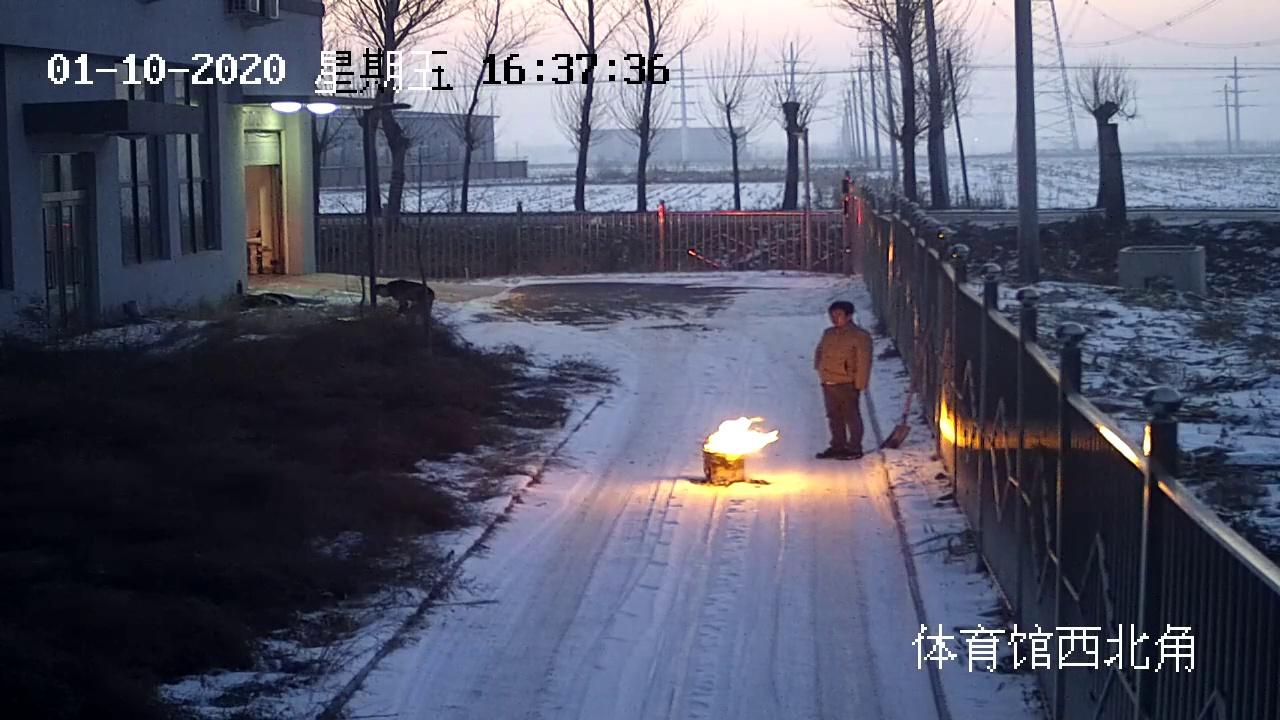fire: (703, 403, 783, 461)
